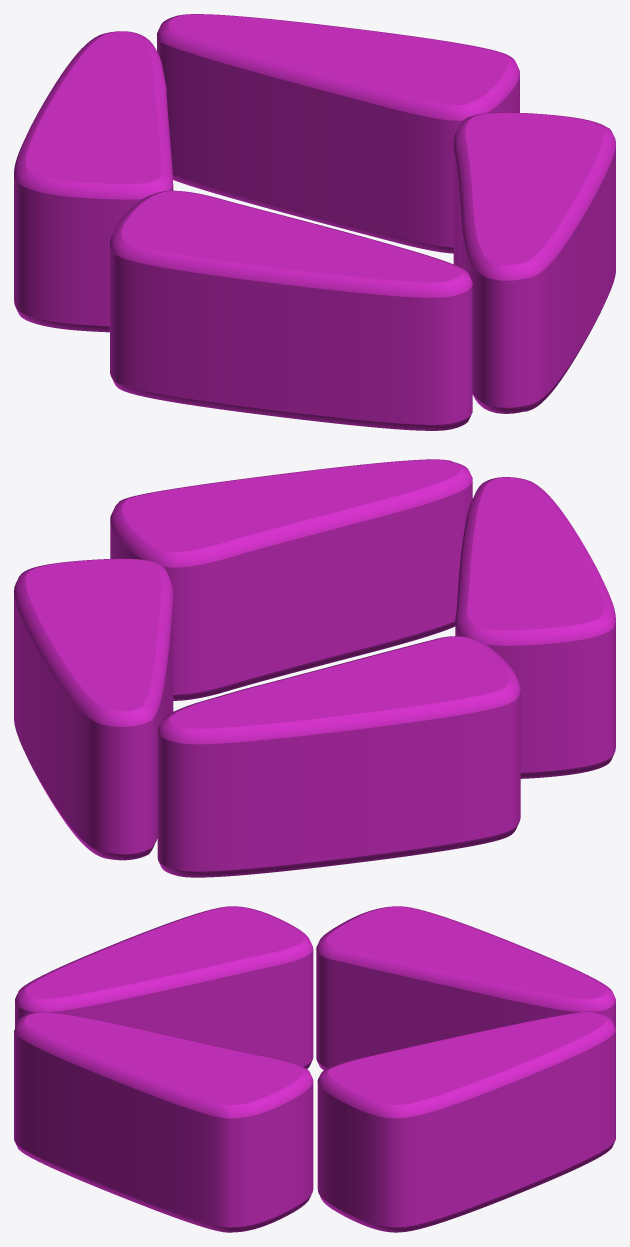
Rendered from Number_0.fbx.
3 views of the same model, one above another, from view 1: azimuth 30°, elevation 25°; view 2: azimuth 150°, elevation 25°; view 3: azimuth 270°, elevation 25° (orthographic). The views are drawn at different scales.
Parts seen in each view (by area): view 1: Number_0; view 2: Number_0; view 3: Number_0.
Boxes of the visible parts, bbox=[...] form: Number_0: bbox=[14, 14, 615, 430]; Number_0: bbox=[14, 459, 615, 877]; Number_0: bbox=[14, 906, 615, 1232].
Bounding box in the file's own units: 0.4896 × 0.14 × 0.6008.
